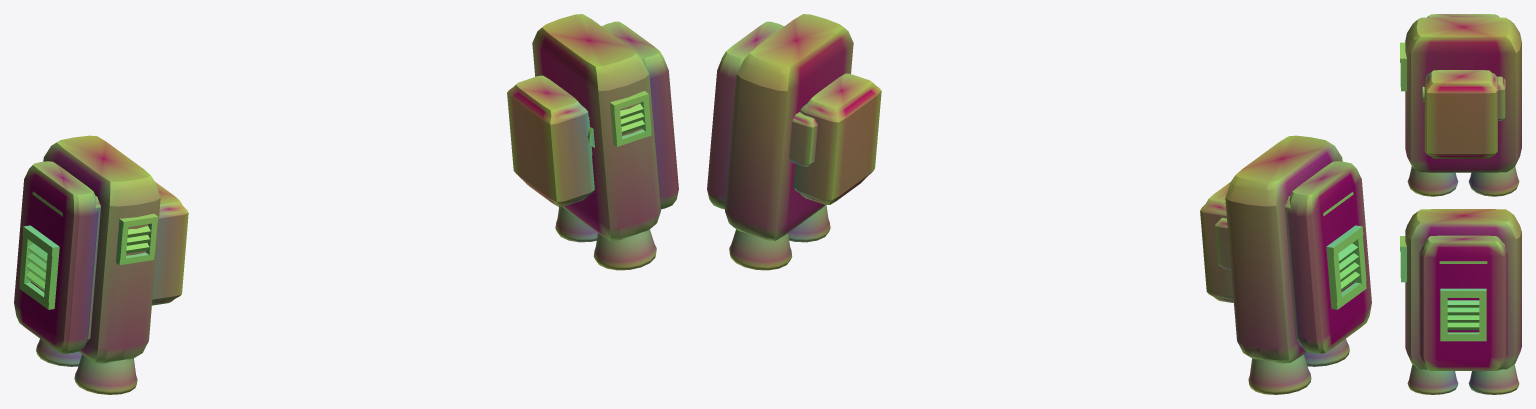
Rendered from llm_gen_leg_thrusters_028_7f68b1.glb.
3 renders of one model, left to right at view 1: azimuth 30°, elevation 25°; view 2: azimuth 150°, elevation 25°; view 3: azimuth 270°, elevation 25°, orthographic. The views are drawn at different scales.
Parts seen in each view (by area): view 1: greave_pylon_0_fuselage_r, greave_pylon_0_fuselage_l, lateral_binder_shroud_2_wing_white_l, adapter_calf_clamp_r, lateral_binder_shroud_2_wing_white_r, adapter_calf_clamp_l, ankle_vector_bell_b_7_vernier_bell_vernier_l, ankle_vector_bell_b_7_vernier_bell_vernier_r, adapter_sub_binder_side_vent_3_dark_l, adapter_sub_greave_intake_grille_5_dark_l, adapter_sub_greave_intake_grille_5_dark_r, ankle_vector_bell_a_6_vernier_bell_vernier_r (+3 smaller); view 2: greave_pylon_0_fuselage_r, greave_pylon_0_fuselage_l, lateral_binder_shroud_2_wing_white_l, adapter_calf_clamp_r, lateral_binder_shroud_2_wing_white_r, adapter_calf_clamp_l, ankle_vector_bell_a_6_vernier_bell_vernier_l, ankle_vector_bell_a_6_vernier_bell_vernier_r, adapter_sub_binder_side_vent_3_dark_l, adapter_leg_tank_collar_dark_8_adapter_dark_r, ankle_vector_bell_b_7_vernier_bell_vernier_r, binder_side_vent_3_gold_l (+2 smaller); view 3: greave_pylon_0_fuselage_l, lateral_binder_shroud_2_wing_white_r, greave_pylon_0_fuselage_r, adapter_calf_clamp_l, adapter_sub_binder_side_vent_3_dark_r, ankle_vector_bell_a_6_vernier_bell_vernier_r, ankle_vector_bell_b_7_vernier_bell_vernier_r, ankle_vector_bell_a_6_vernier_bell_vernier_l, ankle_vector_bell_b_7_vernier_bell_vernier_l, binder_side_vent_3_gold_r, adapter_leg_tank_collar_dark_8_adapter_dark_l, adapter_sub_greave_intake_grille_5_dark_l (+3 smaller).
Part boxes in pixels (box(x1,y1,x2,y2)): greave_pylon_0_fuselage_r: box(532, 14, 660, 240); greave_pylon_0_fuselage_l: box(43, 135, 160, 363); lateral_binder_shroud_2_wing_white_l: box(14, 161, 98, 353); adapter_calf_clamp_r: box(507, 75, 594, 206); lateral_binder_shroud_2_wing_white_r: box(601, 21, 678, 209); adapter_calf_clamp_l: box(152, 182, 188, 305); ankle_vector_bell_b_7_vernier_bell_vernier_l: box(74, 354, 137, 394); ankle_vector_bell_b_7_vernier_bell_vernier_r: box(593, 229, 656, 270); adapter_sub_binder_side_vent_3_dark_l: box(19, 225, 59, 309); adapter_sub_greave_intake_grille_5_dark_l: box(116, 213, 158, 265); adapter_sub_greave_intake_grille_5_dark_r: box(610, 91, 651, 146); ankle_vector_bell_a_6_vernier_bell_vernier_r: box(555, 207, 597, 242); greave_pylon_0_fuselage_r: box(725, 14, 853, 240); greave_pylon_0_fuselage_l: box(1225, 135, 1342, 363); lateral_binder_shroud_2_wing_white_l: box(1287, 161, 1371, 353); adapter_calf_clamp_r: box(794, 73, 881, 204); lateral_binder_shroud_2_wing_white_r: box(707, 21, 784, 209); adapter_calf_clamp_l: box(1200, 182, 1233, 302); ankle_vector_bell_a_6_vernier_bell_vernier_l: box(1248, 354, 1311, 394); ankle_vector_bell_a_6_vernier_bell_vernier_r: box(729, 229, 792, 270); adapter_sub_binder_side_vent_3_dark_l: box(1326, 225, 1366, 309); adapter_leg_tank_collar_dark_8_adapter_dark_r: box(789, 111, 817, 166); ankle_vector_bell_b_7_vernier_bell_vernier_r: box(788, 204, 830, 242); binder_side_vent_3_gold_l: box(1338, 243, 1360, 291); greave_pylon_0_fuselage_l: box(1405, 17, 1521, 172); lateral_binder_shroud_2_wing_white_r: box(1419, 235, 1507, 370); greave_pylon_0_fuselage_r: box(1405, 209, 1521, 369); adapter_calf_clamp_l: box(1424, 70, 1497, 158); adapter_sub_binder_side_vent_3_dark_r: box(1440, 288, 1486, 341); ankle_vector_bell_a_6_vernier_bell_vernier_r: box(1468, 364, 1519, 394); ankle_vector_bell_b_7_vernier_bell_vernier_r: box(1407, 364, 1458, 394); ankle_vector_bell_a_6_vernier_bell_vernier_l: box(1468, 166, 1519, 196); ankle_vector_bell_b_7_vernier_bell_vernier_l: box(1407, 166, 1458, 196); binder_side_vent_3_gold_r: box(1447, 300, 1479, 330); adapter_leg_tank_collar_dark_8_adapter_dark_l: box(1497, 76, 1505, 120); adapter_sub_greave_intake_grille_5_dark_l: box(1400, 42, 1406, 91).
Bounding box in the file's own units: 86.2 × 27.72 × 18.25.
